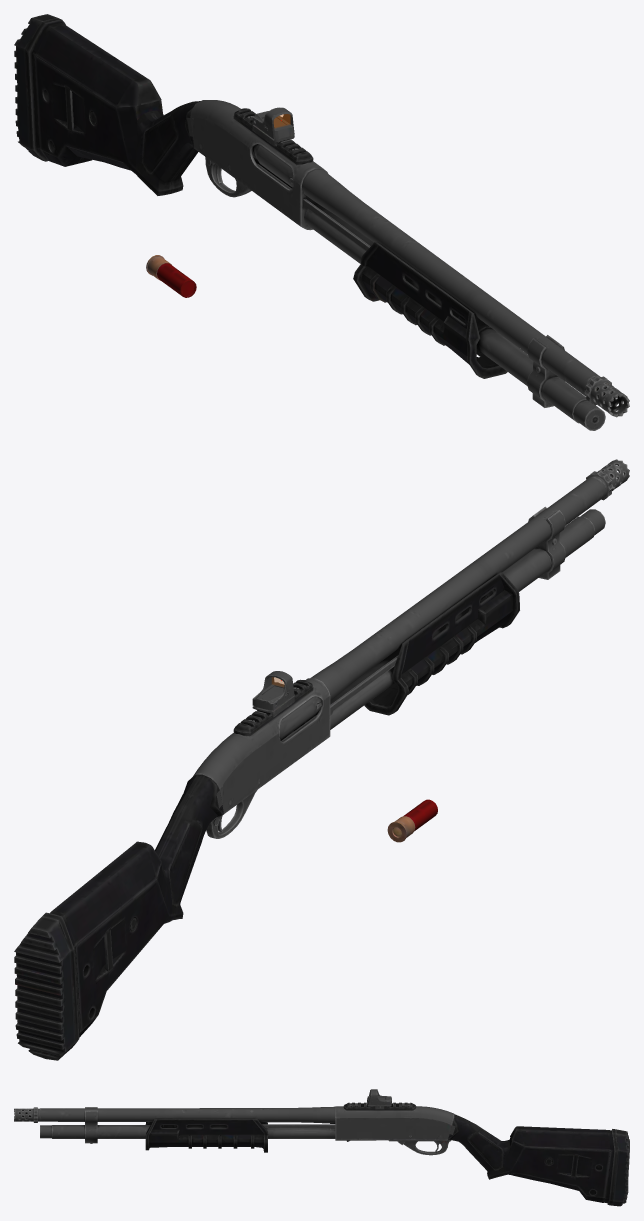
Rendered from shotgun.glb.
The picture shows the model from 3 angles, top to bottom: view 1: azimuth 30°, elevation 25°; view 2: azimuth 150°, elevation 25°; view 3: azimuth 270°, elevation 25°; orthographic projection. The views are drawn at different scales.
Parts seen in each view (by area): view 1: 1_l, 12_l, 13_l, 2_l, 5_l, 11_l, 3_l, 17_l, Bullet_l, 14_l, 9_l, 19_l (+2 smaller); view 2: 1_l, 12_l, 3_l, 13_l, 5_l, 2_l, 11_l, Bullet_l, 14_l, 19_l, 9_l; view 3: 1_l, 12_l, 5_l, 13_l, 2_l, 11_l, 3_l, 9_l, 14_l, 6_l, 17_l, 25_l (+2 smaller).
Boxes of the visible parts, left/top/right/bottom form: 1_l: left=35, top=55, right=200, bottom=195; 12_l: left=302, top=169, right=600, bottom=396; 13_l: left=353, top=242, right=507, bottom=378; 2_l: left=25, top=18, right=161, bottom=161; 5_l: left=190, top=100, right=328, bottom=230; 11_l: left=304, top=203, right=605, bottom=430; 3_l: left=14, top=14, right=57, bottom=159; 17_l: left=584, top=376, right=629, bottom=417; Bullet_l: left=146, top=255, right=196, bottom=297; 14_l: left=527, top=335, right=564, bottom=407; 9_l: left=233, top=108, right=313, bottom=164; 19_l: left=252, top=107, right=294, bottom=139; 1_l: left=75, top=775, right=223, bottom=1037; 12_l: left=310, top=477, right=605, bottom=700; 3_l: left=14, top=916, right=75, bottom=1060; 13_l: left=364, top=572, right=519, bottom=715; 5_l: left=193, top=678, right=330, bottom=813; 2_l: left=38, top=841, right=161, bottom=1051; 11_l: left=303, top=509, right=605, bottom=729; Bullet_l: left=387, top=799, right=437, bottom=842; 14_l: left=528, top=506, right=565, bottom=579; 19_l: left=252, top=671, right=294, bottom=710; 9_l: left=233, top=679, right=313, bottom=735; 1_l: left=447, top=1114, right=610, bottom=1202; 12_l: left=40, top=1106, right=335, bottom=1123; 5_l: left=335, top=1106, right=454, bottom=1140; 13_l: left=145, top=1119, right=268, bottom=1152; 2_l: left=510, top=1126, right=618, bottom=1205; 11_l: left=40, top=1125, right=335, bottom=1138; 3_l: left=612, top=1129, right=629, bottom=1206; 9_l: left=343, top=1102, right=416, bottom=1110; 14_l: left=85, top=1107, right=97, bottom=1143; 6_l: left=388, top=1140, right=451, bottom=1155; 17_l: left=14, top=1107, right=39, bottom=1122; 25_l: left=262, top=1123, right=335, bottom=1129.
Bounding box in the file's own units: 1.29 × 1.68 × 8.29.
4 materials, 2 textured.
